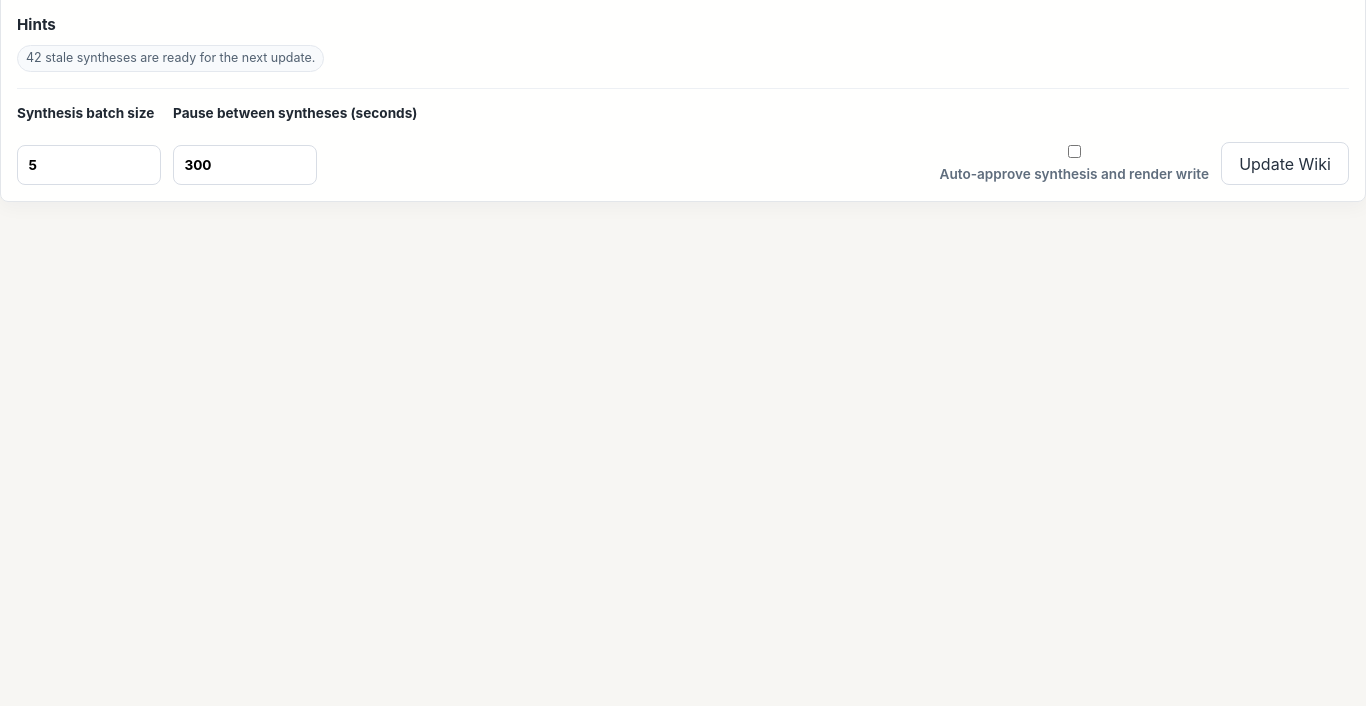
UpdateWikiPanel › expands technical details within a workflow step
Click the button "Update Wiki" at x=1285, y=164, box [1221,142,1349,185]
(page scrolled)
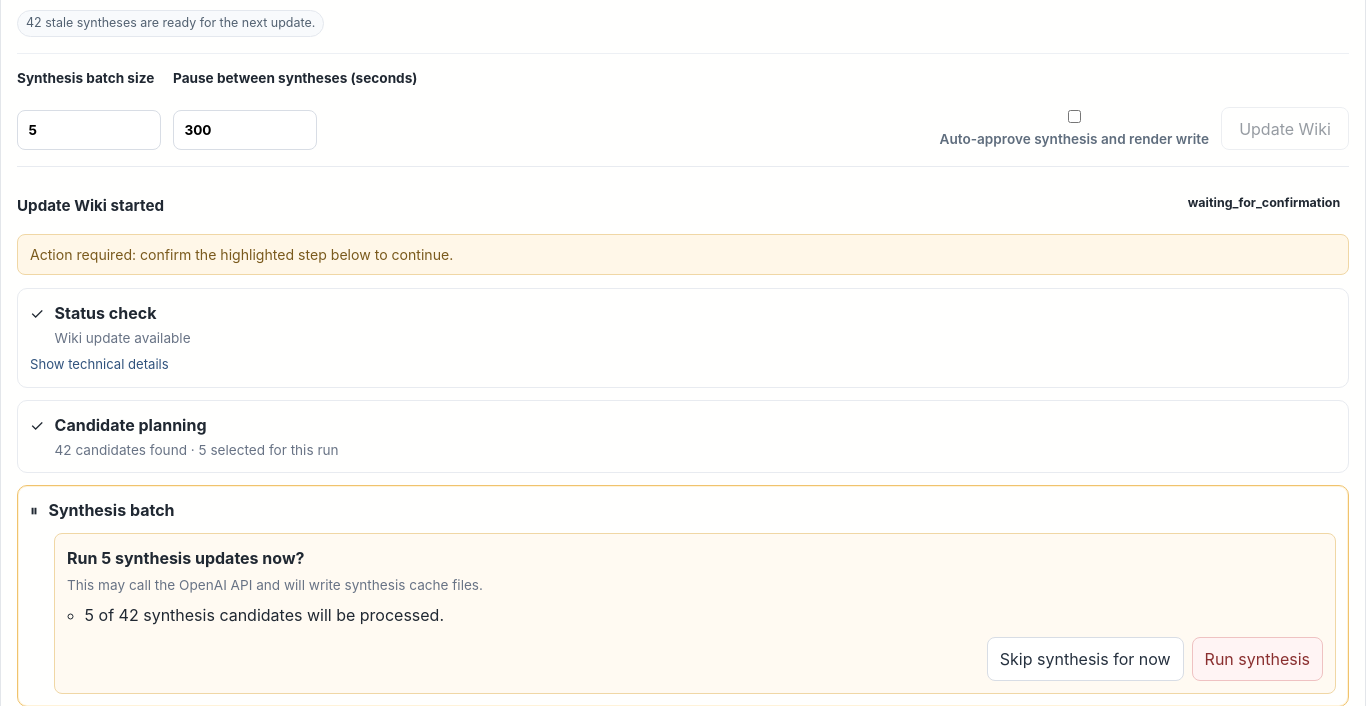
Click the button "Show technical details" at x=99, y=365, box [30,356,169,375]
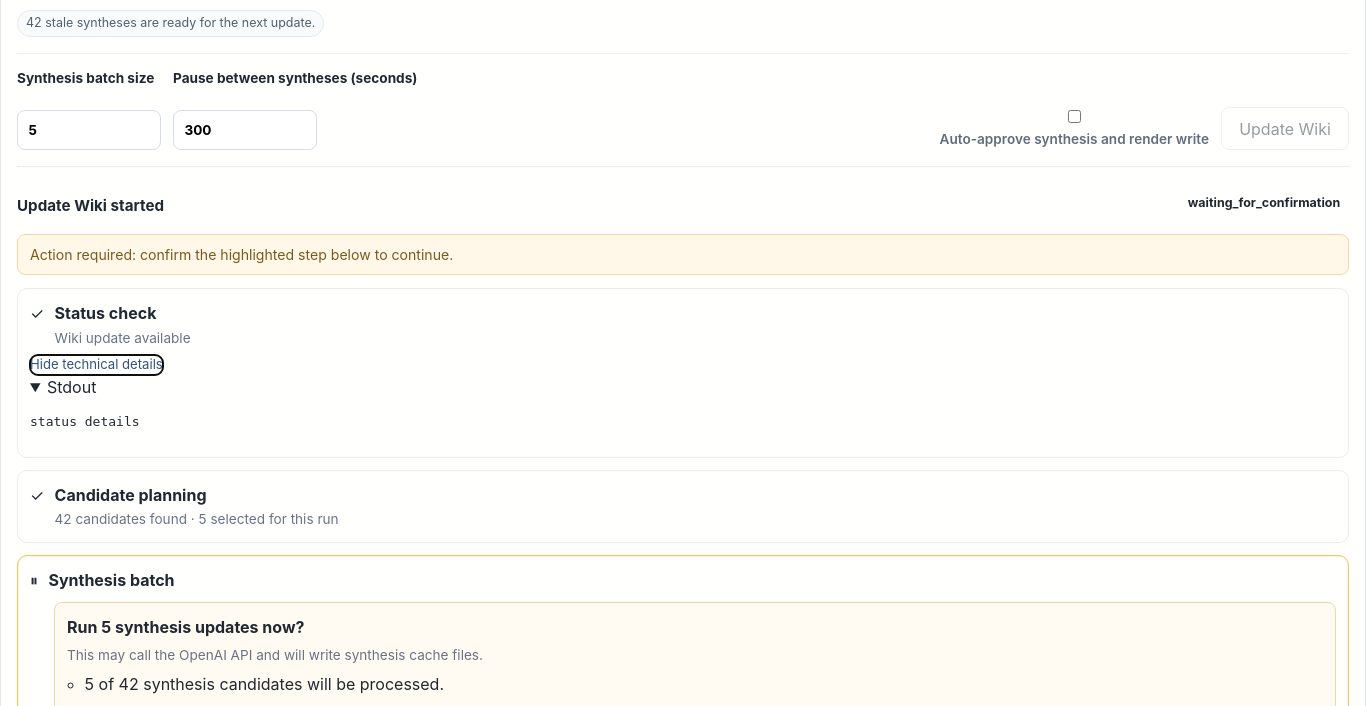
Expected: the text "status details" is shown, [30,414,140,430]
